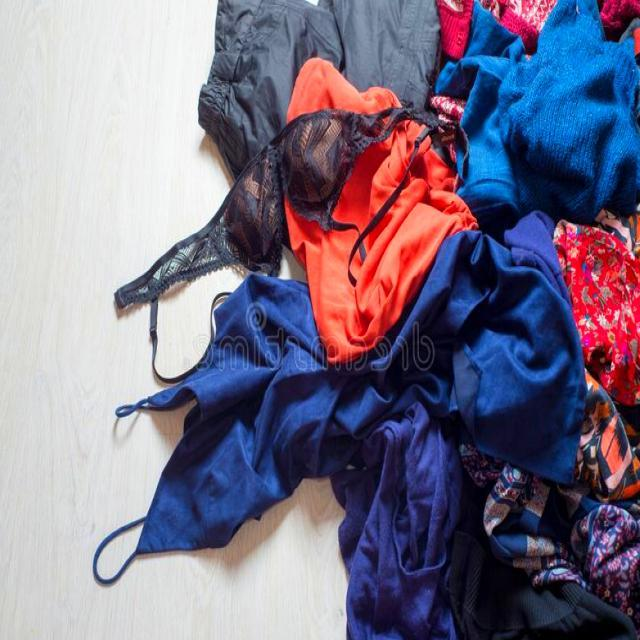clothes: (117, 81, 471, 405)
